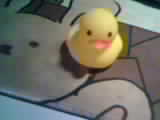duck: (68, 16, 122, 72)
